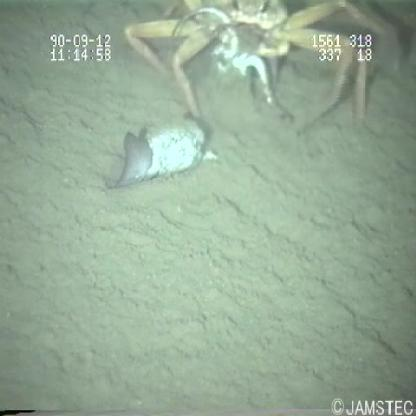Bio: (100, 1, 379, 194)
